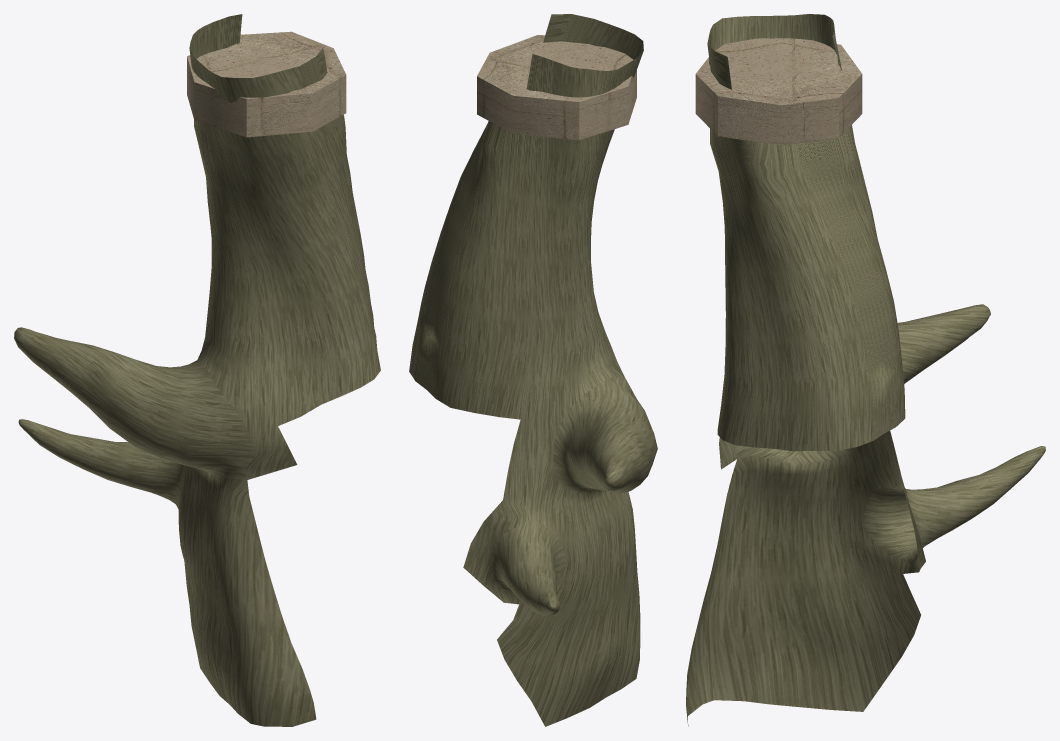
The model's file is SM_ENV_KNFRST_LargeTree_D_COL.FBX.
The picture shows the model from 3 angles, left to right: view 1: azimuth 30°, elevation 25°; view 2: azimuth 150°, elevation 25°; view 3: azimuth 270°, elevation 25°; orthographic projection. The views are drawn at different scales.
Parts seen in each view (by area): view 1: SM_ENV_KNFRST_LargeTree_D_COL; view 2: SM_ENV_KNFRST_LargeTree_D_COL; view 3: SM_ENV_KNFRST_LargeTree_D_COL.
Boxes of the visible parts, x1,y1,x2,y2 form: SM_ENV_KNFRST_LargeTree_D_COL: (14,14,380,726); SM_ENV_KNFRST_LargeTree_D_COL: (409,14,657,726); SM_ENV_KNFRST_LargeTree_D_COL: (686,14,1045,726).
Bounding box in the file's own units: 2303 × 5243 × 2476.
